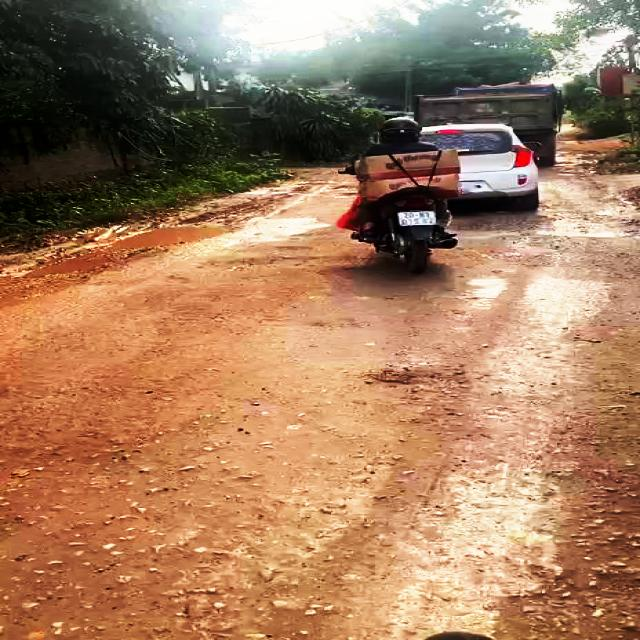pothole: (15, 220, 237, 282)
